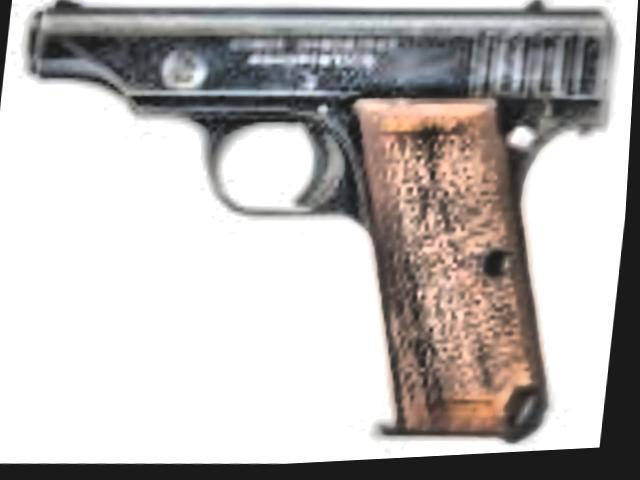pistol: (0, 0, 616, 470)
